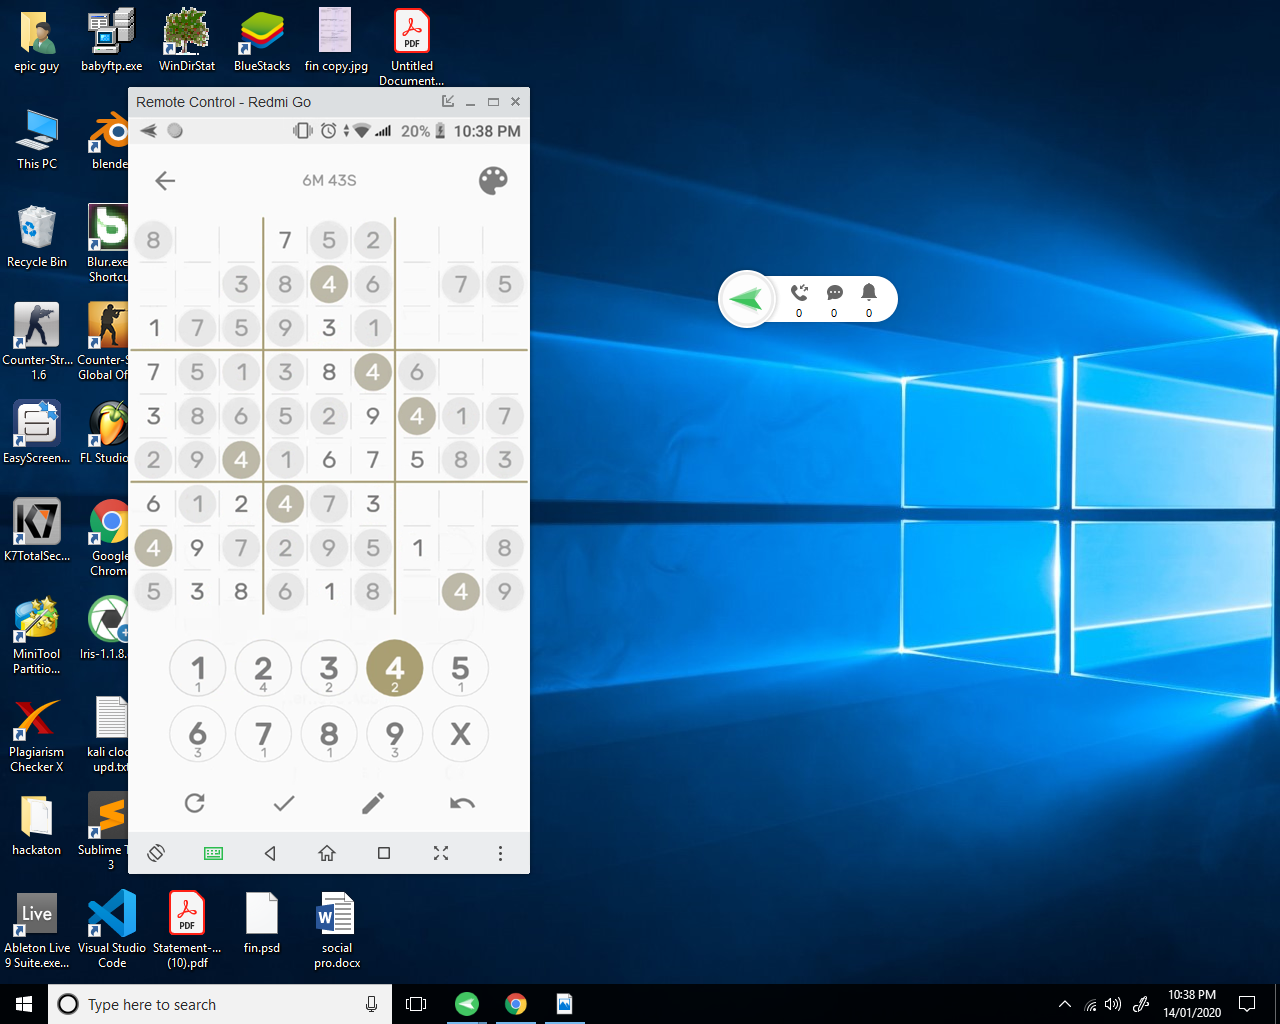4A: (360, 635, 429, 699), (306, 260, 355, 309), (438, 567, 484, 615), (395, 395, 440, 441), (131, 527, 174, 571), (266, 484, 306, 528), (350, 351, 393, 391), (222, 438, 264, 478)
9N: (351, 394, 396, 438), (306, 527, 351, 571), (481, 571, 527, 613), (177, 438, 220, 480), (265, 307, 306, 350)
X: (426, 702, 503, 766)
box: (127, 117, 527, 829)
